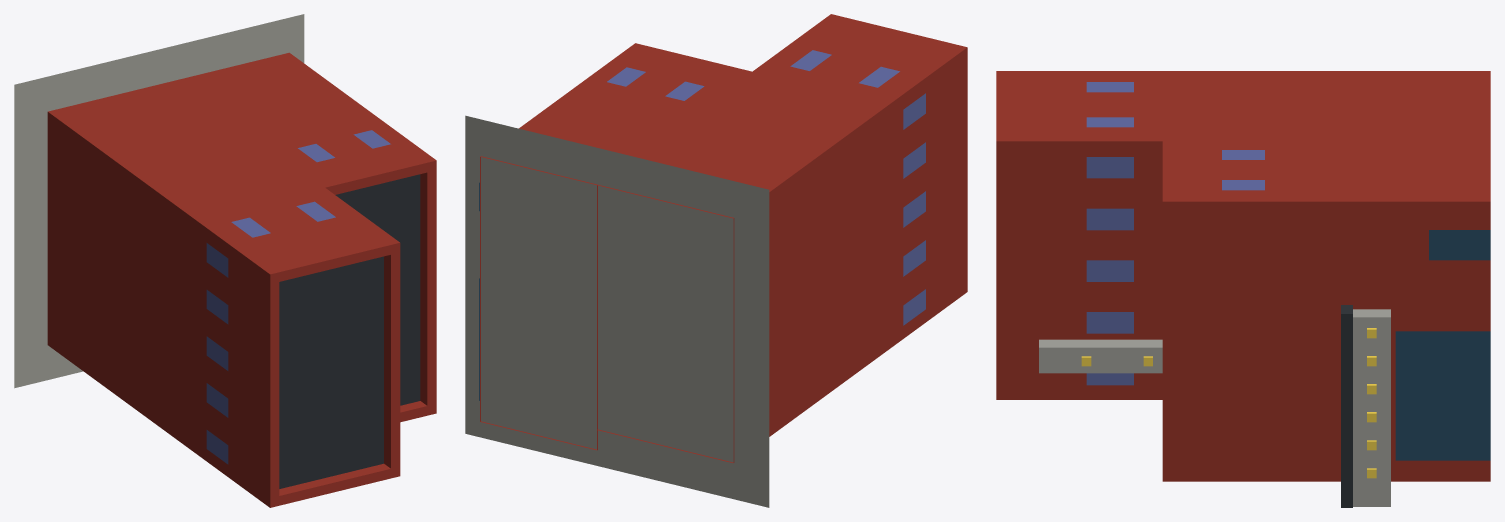
The model's file is complete.glb.
3 renders of one model, left to right at view 1: azimuth 30°, elevation 25°; view 2: azimuth 150°, elevation 25°; view 3: azimuth 270°, elevation 25°, orthographic. The views are drawn at different scales.
Parts seen in each view (by area): view 1: complete; view 2: complete; view 3: complete.
Boxes of the visible parts, x1,y1,x2,y2 form: complete: [14, 14, 436, 507]; complete: [465, 14, 967, 507]; complete: [996, 71, 1490, 507].
Bounding box in the file's own units: 15.75 × 15.6 × 20.8.
